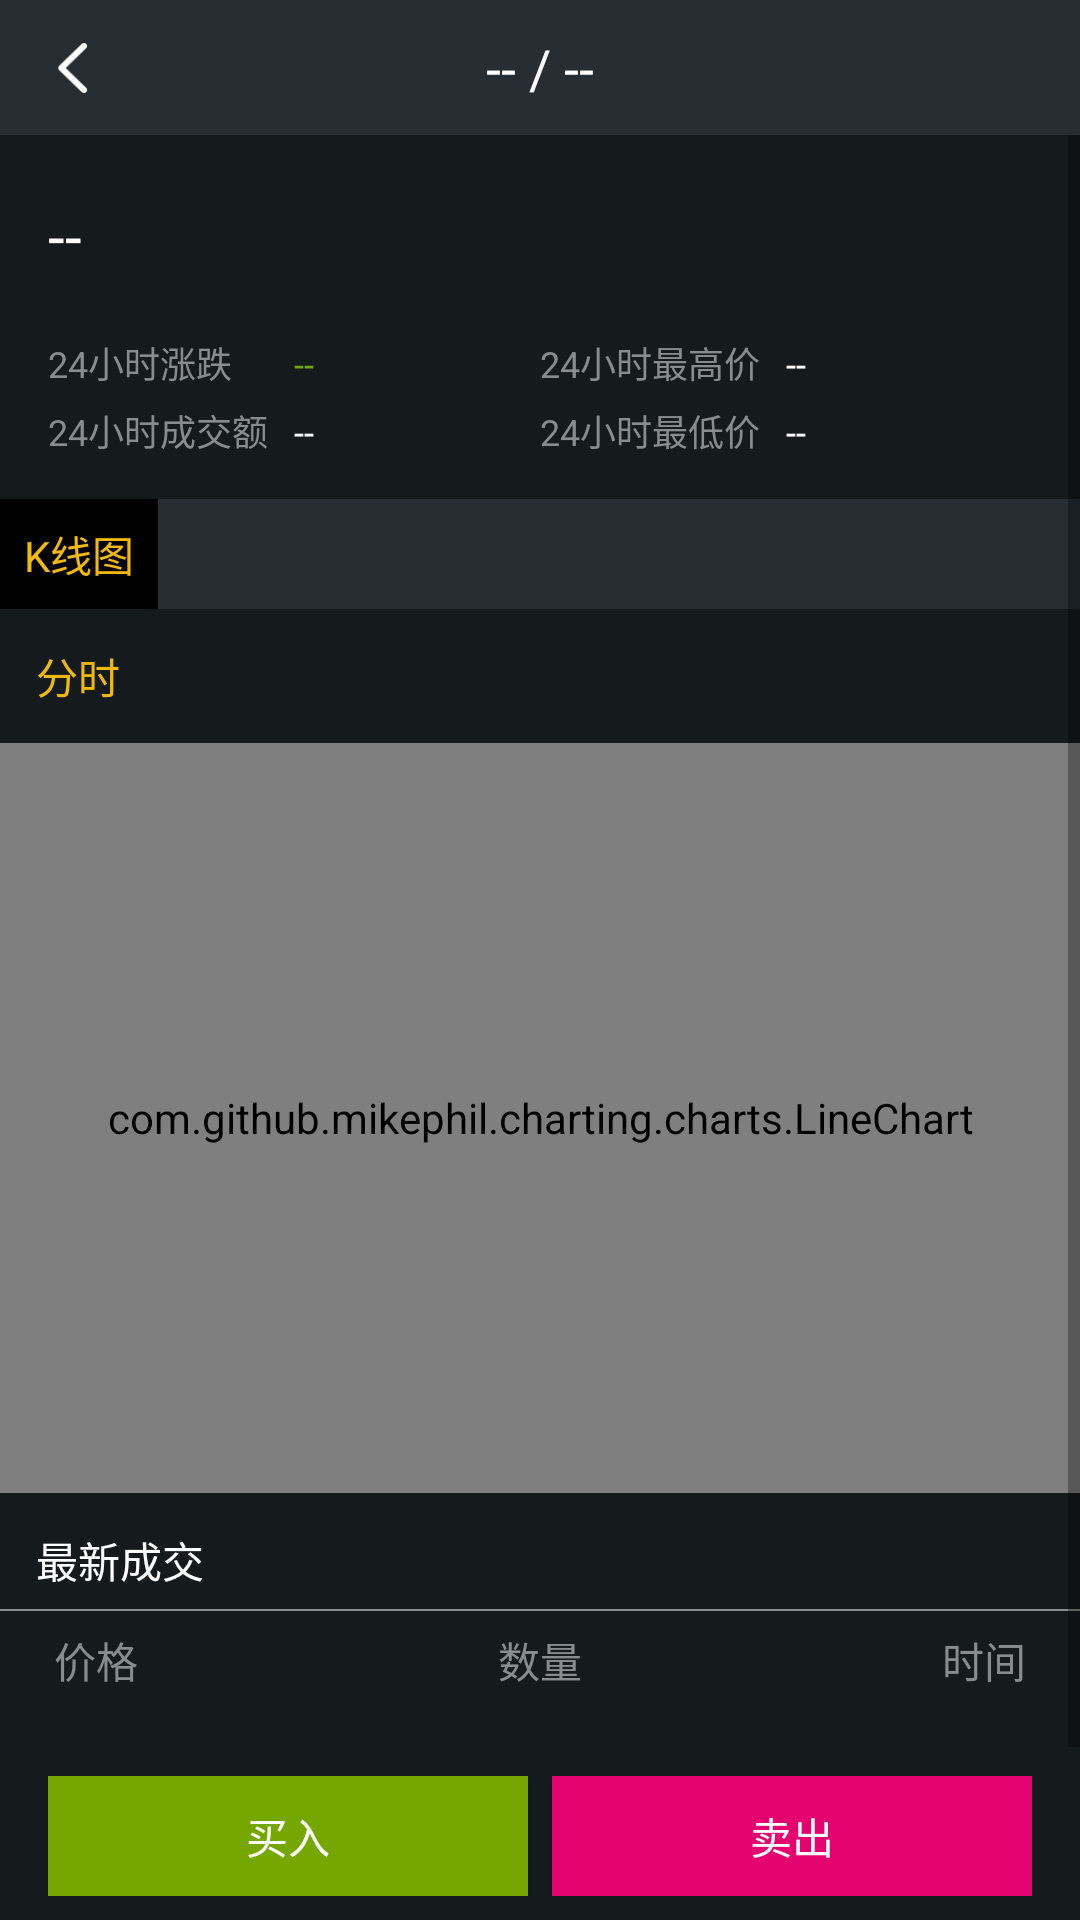

Screen size 1080w x 1920h. Icon name, then its center in pixels as point (x, y):
back: point (72, 68)
